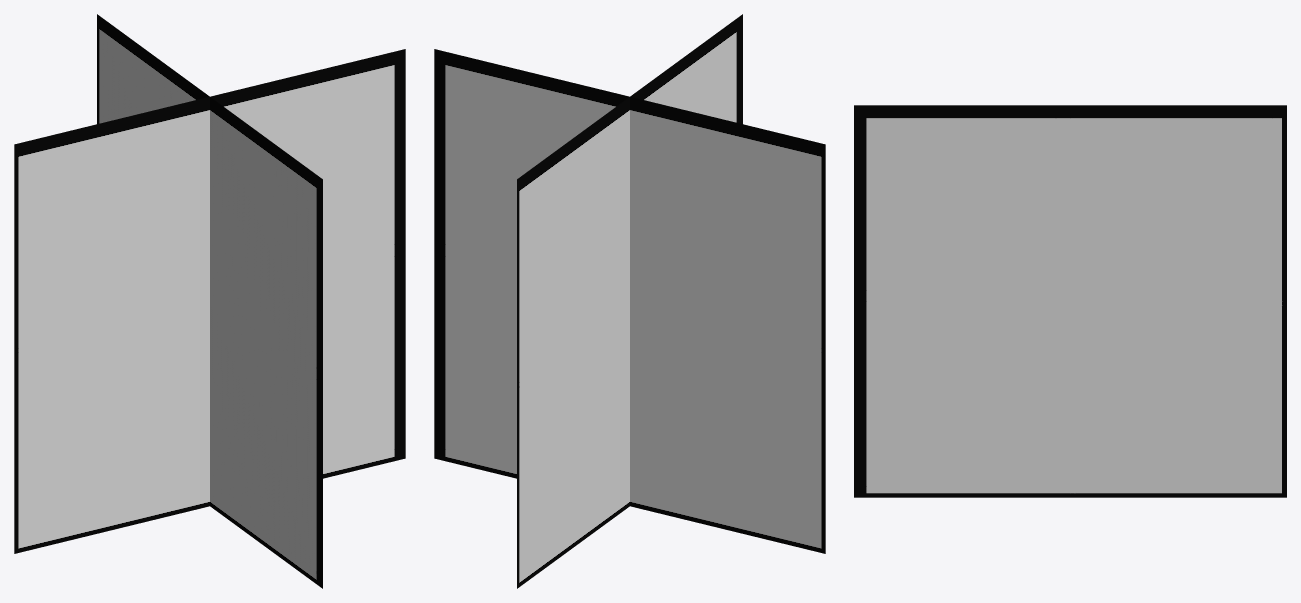
Rendered from lightsource.fbx.
The picture shows the model from 3 angles, left to right: view 1: azimuth 30°, elevation 25°; view 2: azimuth 150°, elevation 25°; view 3: azimuth 270°, elevation 25°; orthographic projection. The views are drawn at different scales.
Visible parts, largest first — view 1: lightsource2, lightsource1; view 2: lightsource2, lightsource1; view 3: lightsource1.
Boxes of the visible parts, x1,y1,x2,y2 form: lightsource2: [14, 49, 405, 553]; lightsource1: [97, 14, 322, 588]; lightsource2: [434, 49, 825, 553]; lightsource1: [517, 14, 742, 588]; lightsource1: [854, 105, 1286, 497].
Size of the model in its own units: 1 by 1 by 1.
